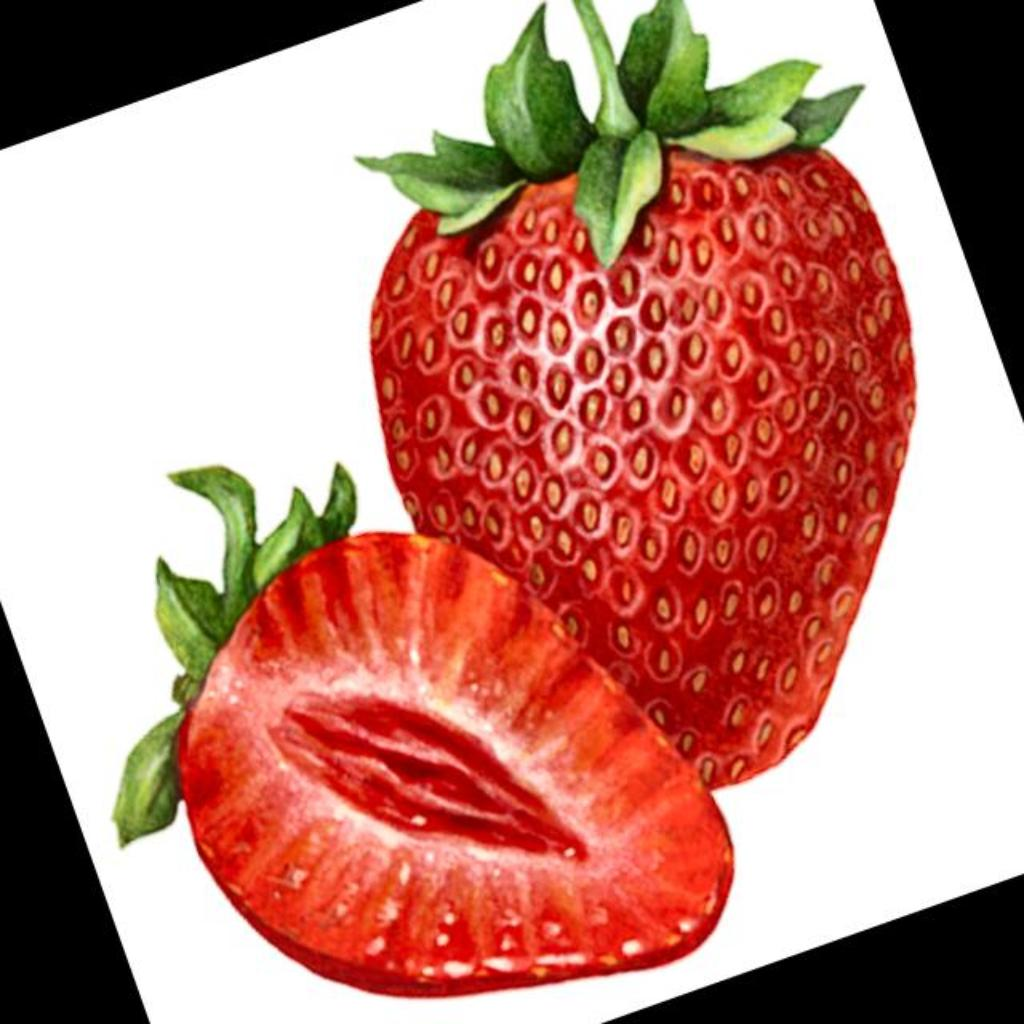strawberry: (360, 0, 916, 787), (114, 466, 732, 996)
